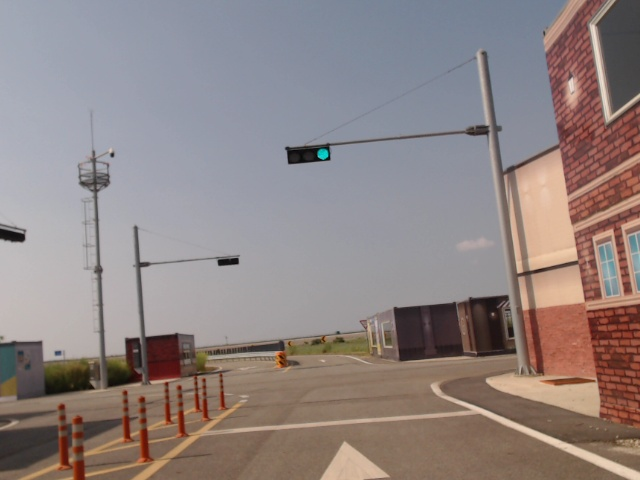green_3: (287, 144, 330, 166)
